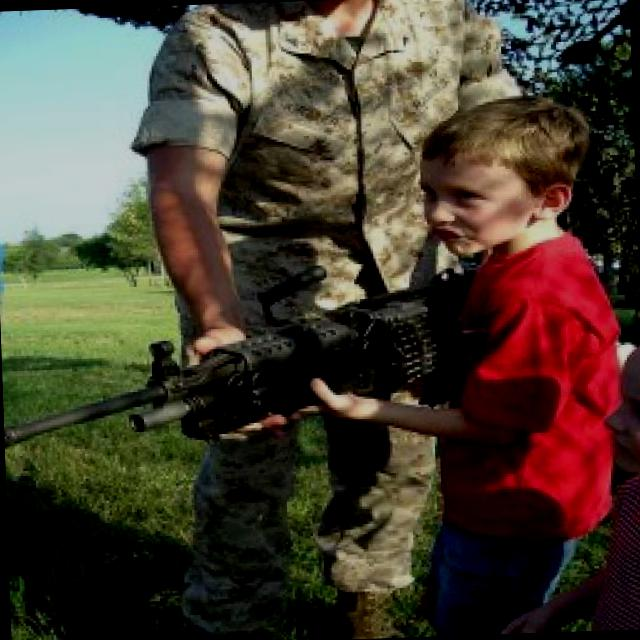long weapon: (0, 247, 428, 550)
